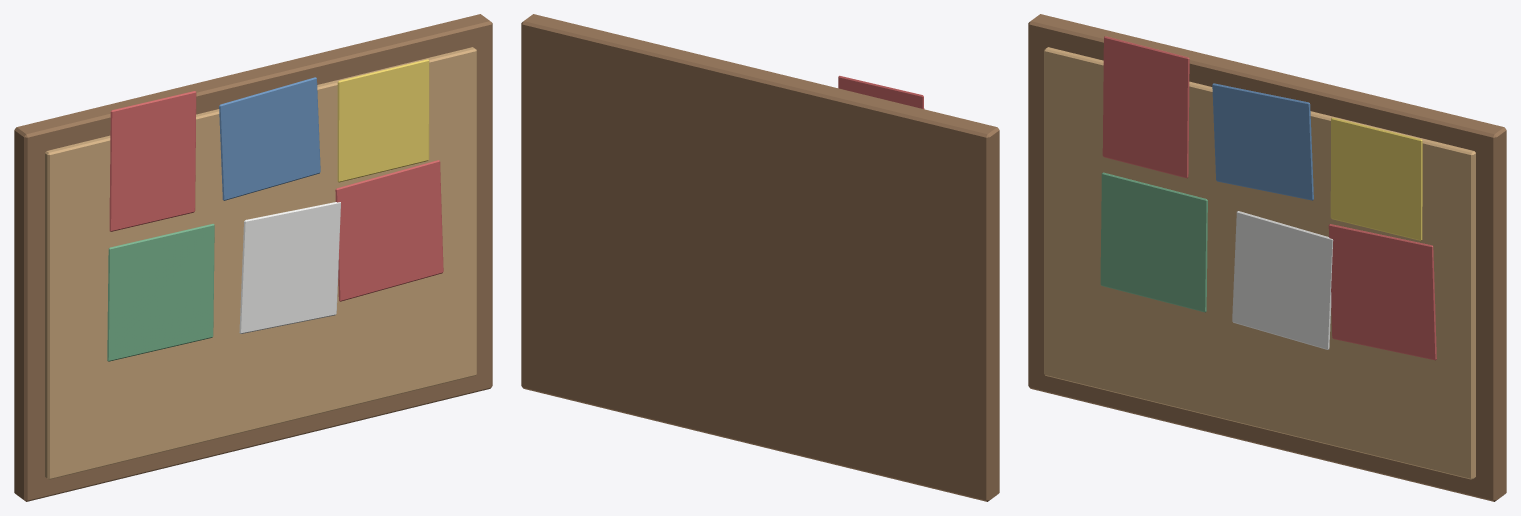
3 renders of one model, left to right at view 1: azimuth 30°, elevation 25°; view 2: azimuth 150°, elevation 25°; view 3: azimuth 330°, elevation 25°, orthographic.
Visible parts, largest first — view 1: notice-board; view 2: notice-board; view 3: notice-board.
Part boxes in pixels (left/top/right/bottom): notice-board: left=14, top=14, right=492, bottom=501; notice-board: left=521, top=14, right=999, bottom=501; notice-board: left=1028, top=14, right=1506, bottom=501.
Bounding box in the file's own units: 1.2 × 0.9205 × 0.0772.
